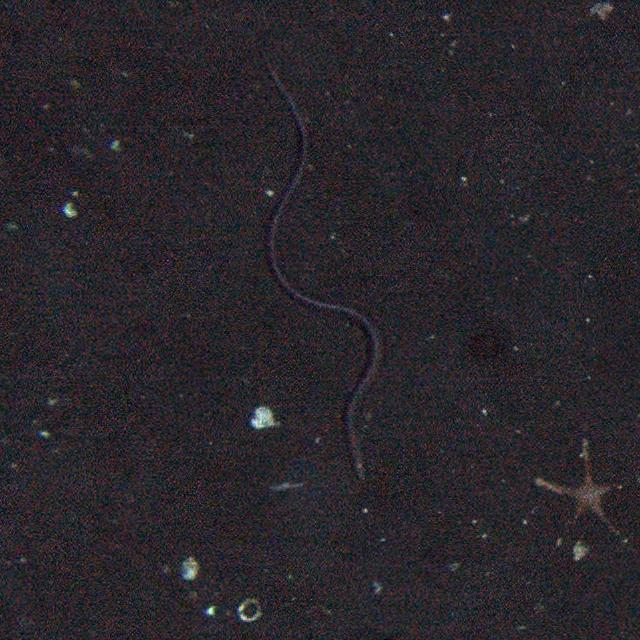eel: (259, 51, 383, 487)
